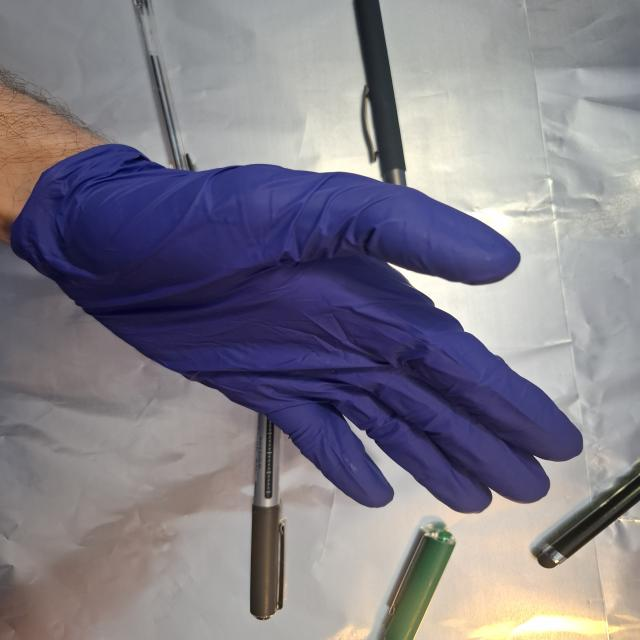glove_on: (15, 141, 588, 515)
